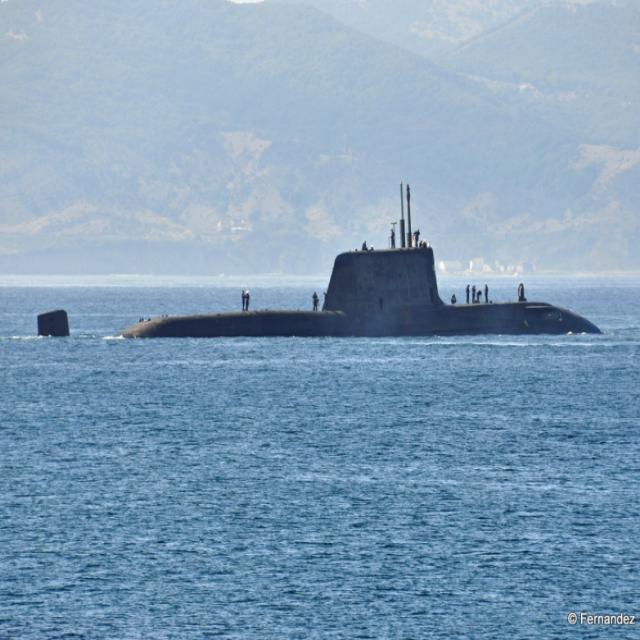submarine: (30, 181, 607, 337)
